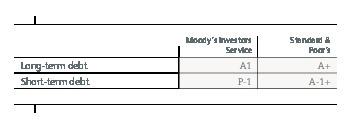table: (0, 0, 352, 128)
